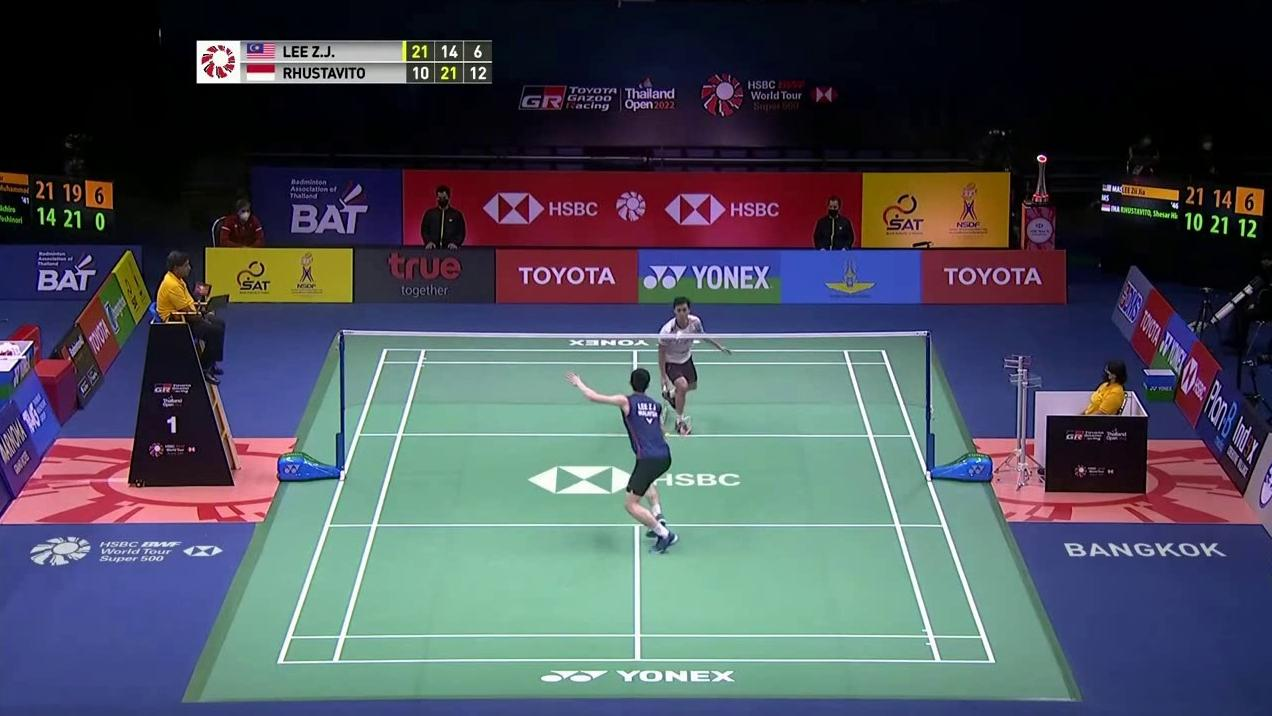racket: (661, 414, 695, 440), (660, 383, 670, 423)
shuttle: (676, 330, 683, 340)
